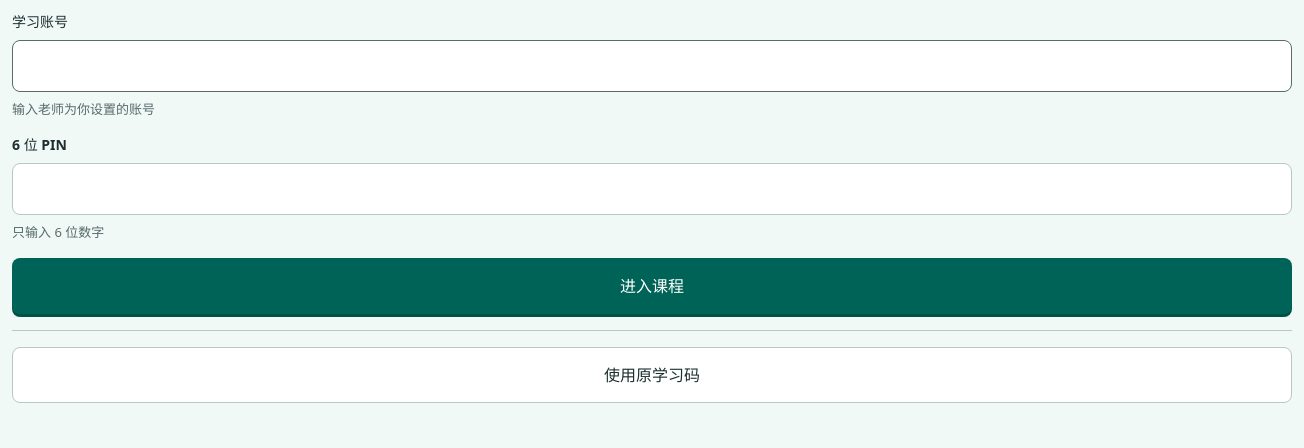
Scenario: LearnerAccessEntry › uses one generic credential error, clears the PIN, and returns focus to it
Type "alice01" into the field with id "learner-login-account" at {"x": 652, "y": 66}, box 12,40 -> 1292,92
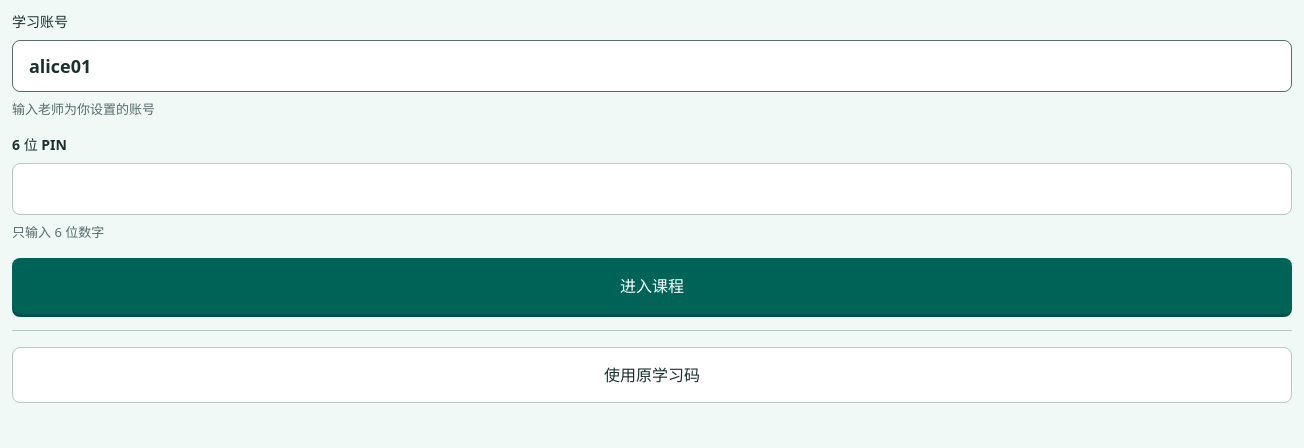
Type "123456" into the password field with id "learner-login-pin" at {"x": 652, "y": 189}, box 12,163 -> 1292,215
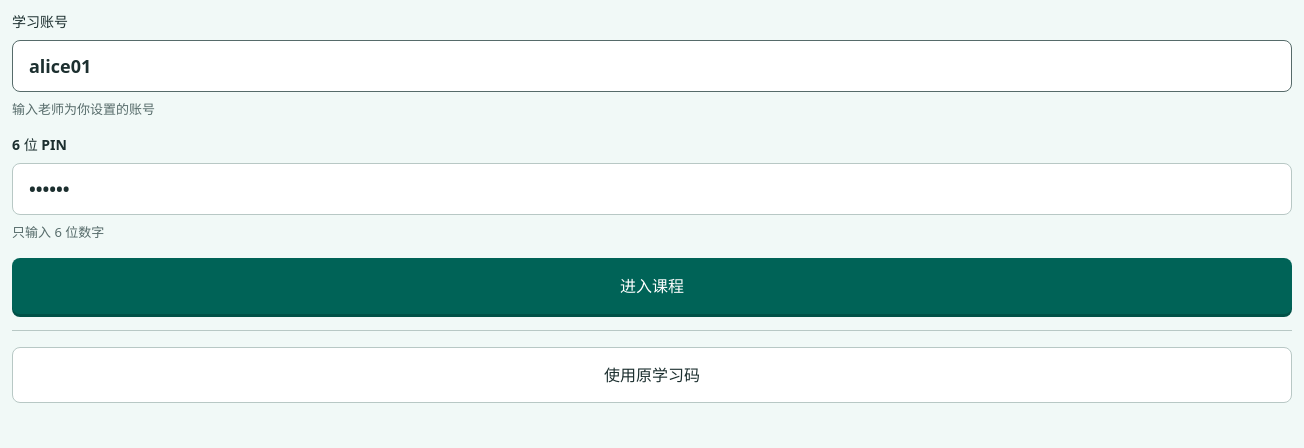
Submit the form
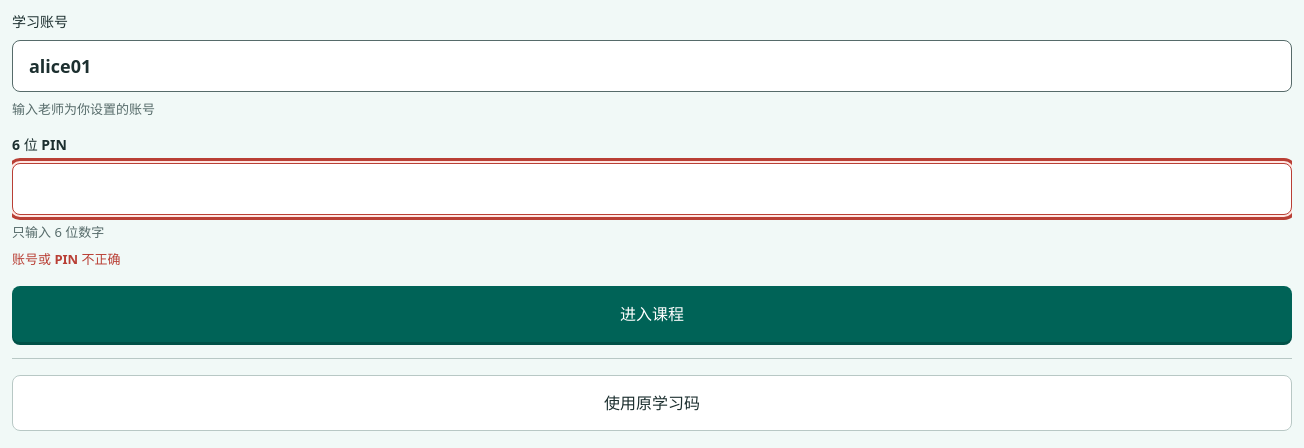
Now the message "账号或 PIN 不正确" is shown, box 12,250 -> 121,268
Now the password field with id "learner-login-pin" is empty, box 12,163 -> 1292,215
